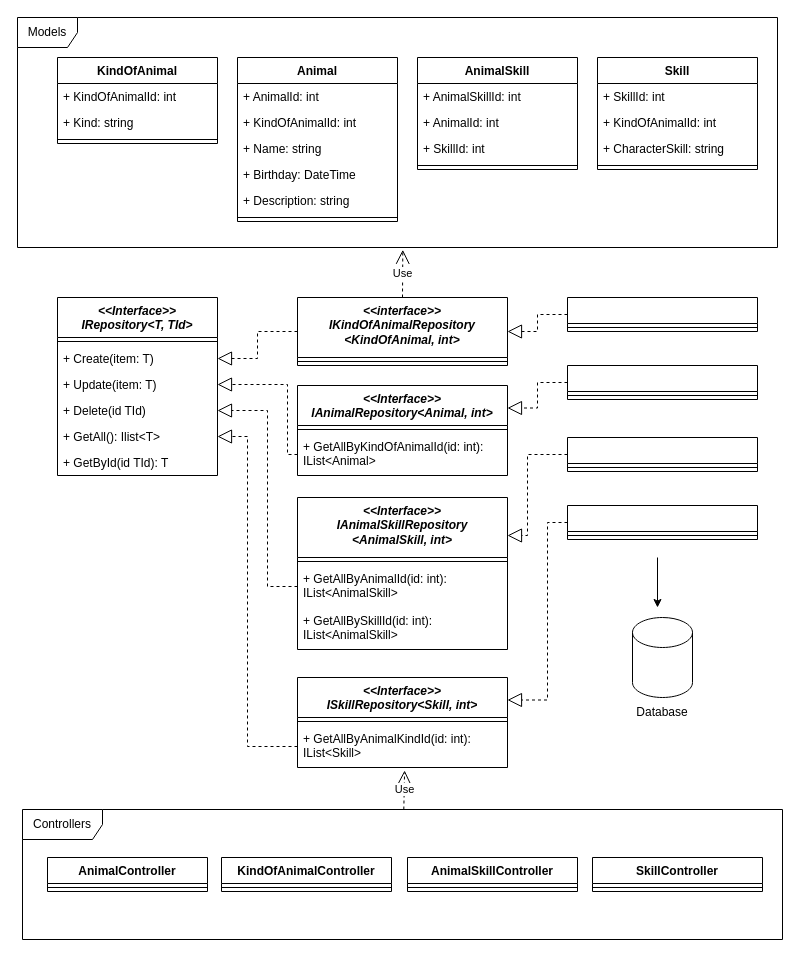
Some shapes in this 800 by 957 pixel diagram are drawn without their labels. The centre of each missing label's shape, as x and y in pixels:
AnimalRepository: pixel 662 382
AnimalSkillRepository: pixel 662 454
KindOfAnimalRepository: pixel 662 314
SkillRepository: pixel 662 522
